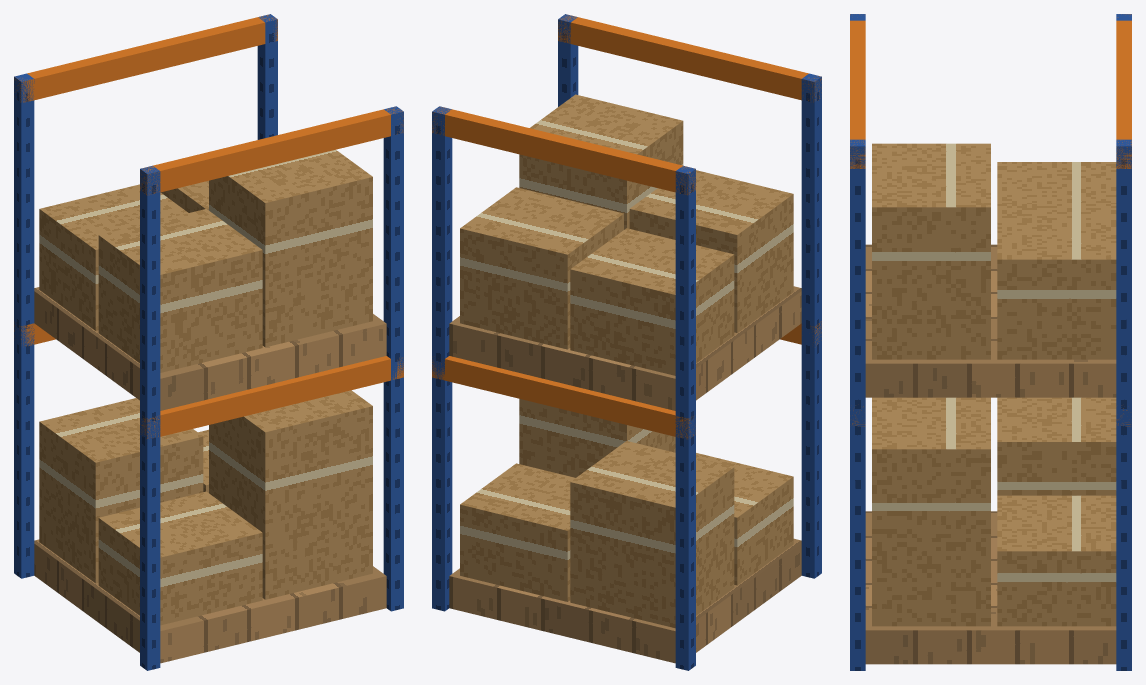
File: f_warehouse_shelf.glb
3 renders of one model, left to right at view 1: azimuth 30°, elevation 25°; view 2: azimuth 150°, elevation 25°; view 3: azimuth 270°, elevation 25°, orthographic. The views are drawn at different scales.
Parts seen in each view (by area): view 1: block_crate000, block_crate0.9400, block_crate0.94-0.430, block_crate0-0.43-0.4, block_crate0-0.430, block_pallet0, block_pallet0.94, block_upright-0.50.4, block_upright-0.5-0.45, block_upright0.450.4, block_crate0.94-0.43-0.4, block_beam1.77-0.45 (+4 smaller); view 2: block_crate0-0.43-0.4, block_crate0.940-0.4, block_crate0.94-0.43-0.4, block_crate00-0.4, block_crate0.94-0.430, block_pallet0, block_pallet0.94, block_upright-0.50.4, block_upright-0.5-0.45, block_crate0.9400, block_upright0.45-0.45, block_beam1.770.4 (+5 smaller); view 3: block_crate000, block_crate0.9400, block_crate0.940-0.4, block_crate00-0.4, block_crate0-0.43-0.4, block_pallet0, block_pallet0.94, block_upright0.450.4, block_upright0.45-0.45, block_crate0.94-0.43-0.4, block_beam1.77-0.45, block_beam1.770.4 (+1 smaller).
Boxes of the visible parts, x1,y1,x2,y2 form: block_crate000: (209, 390, 372, 599); block_crate0.9400: (209, 149, 372, 347); block_crate0.94-0.430: (98, 209, 262, 372); block_crate0-0.43-0.4: (39, 398, 203, 583); block_crate0-0.430: (98, 491, 262, 625); block_pallet0: (34, 539, 386, 663); block_pallet0.94: (34, 287, 386, 410); block_upright-0.50.4: (140, 165, 160, 670); block_upright-0.5-0.45: (14, 73, 34, 578); block_upright0.450.4: (383, 106, 403, 611); block_crate0.94-0.43-0.4: (39, 184, 188, 330); block_beam1.77-0.45: (14, 14, 277, 102); block_crate0-0.43-0.4: (570, 441, 734, 628); block_crate0.940-0.4: (460, 187, 623, 349); block_crate0.94-0.43-0.4: (570, 228, 734, 375); block_crate00-0.4: (460, 463, 575, 601); block_crate0.94-0.430: (629, 170, 793, 332); block_pallet0: (449, 538, 801, 663); block_pallet0.94: (449, 286, 801, 410); block_upright-0.50.4: (801, 73, 821, 578); block_upright-0.5-0.45: (675, 165, 695, 670); block_crate0.9400: (519, 94, 683, 229); block_upright0.45-0.45: (432, 106, 452, 611); block_beam1.770.4: (558, 15, 821, 102); block_crate000: (872, 397, 990, 626); block_crate0.9400: (872, 151, 990, 359); block_crate0.940-0.4: (997, 204, 1116, 359); block_crate00-0.4: (997, 495, 1116, 626); block_crate0-0.43-0.4: (997, 397, 1116, 495); block_pallet0: (865, 511, 1116, 664); block_pallet0.94: (865, 244, 1116, 397); block_upright0.450.4: (850, 139, 865, 670); block_upright0.45-0.45: (1116, 139, 1131, 670); block_crate0.94-0.43-0.4: (997, 162, 1116, 203); block_beam1.77-0.45: (1116, 14, 1131, 168); block_beam1.770.4: (850, 14, 865, 168).
Size of the model in its own units: 1 by 1.85 by 0.9.
2 materials, 2 textured.
